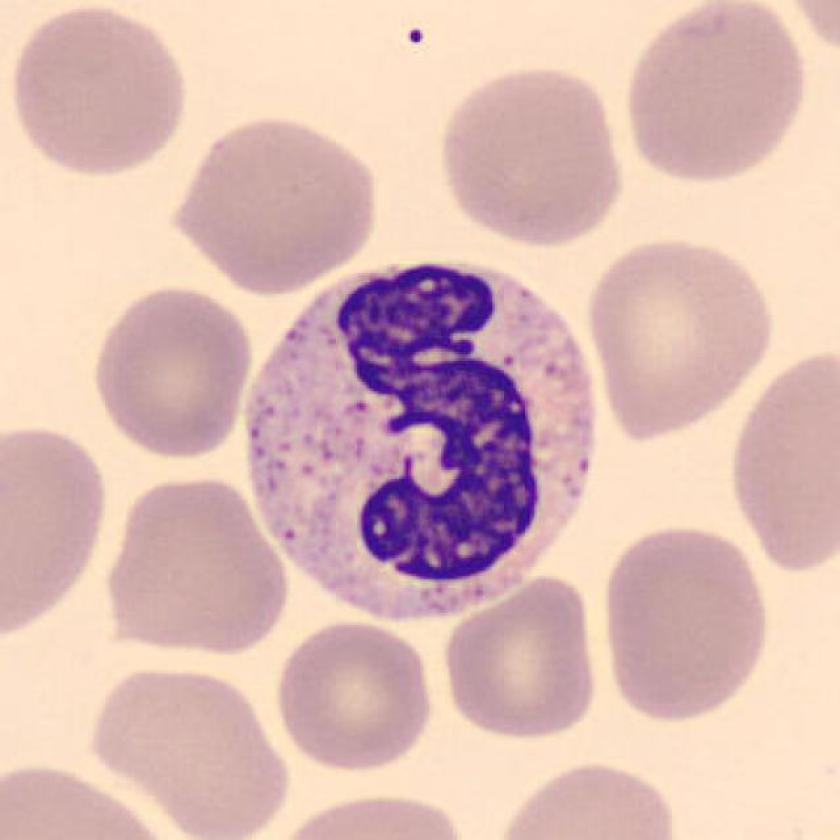neutrophil: (246, 264, 593, 612)
